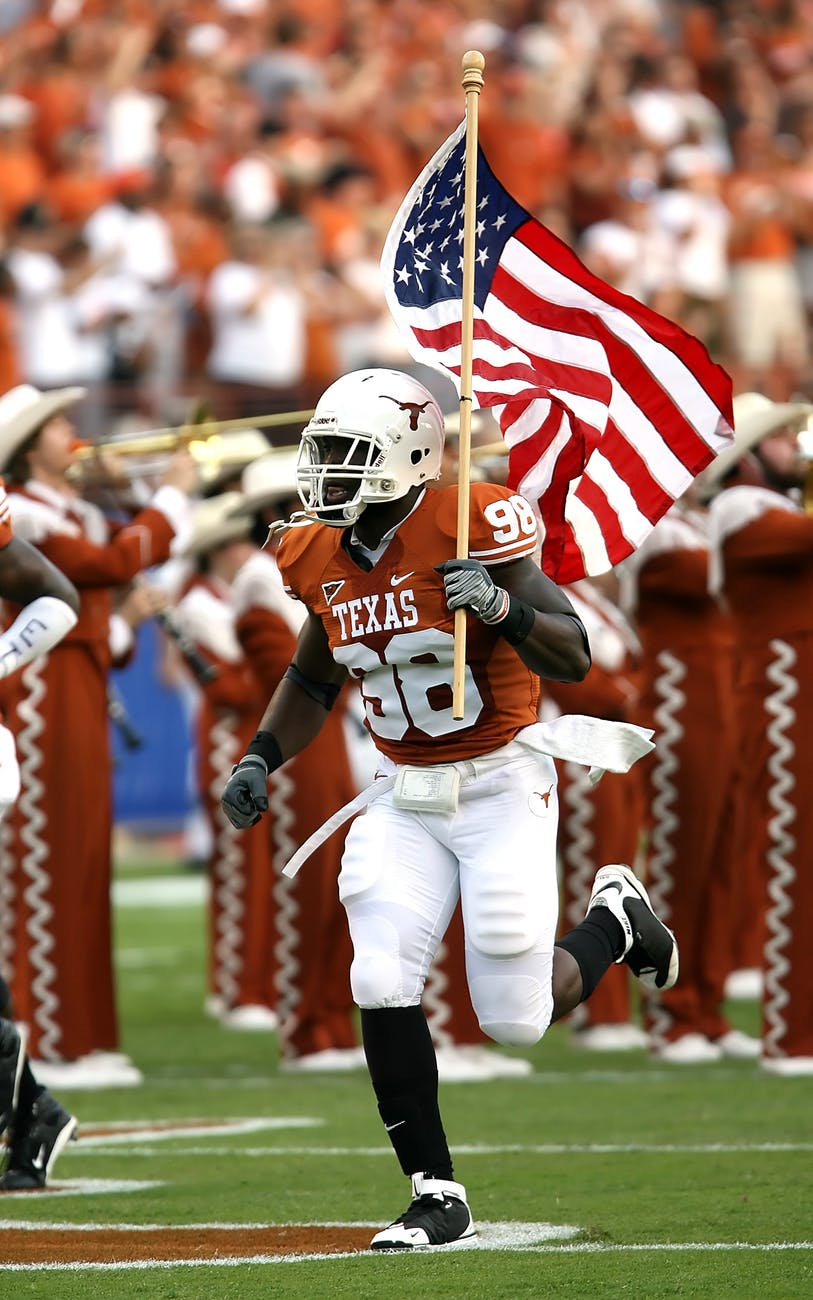helmet: (293, 363, 451, 519)
